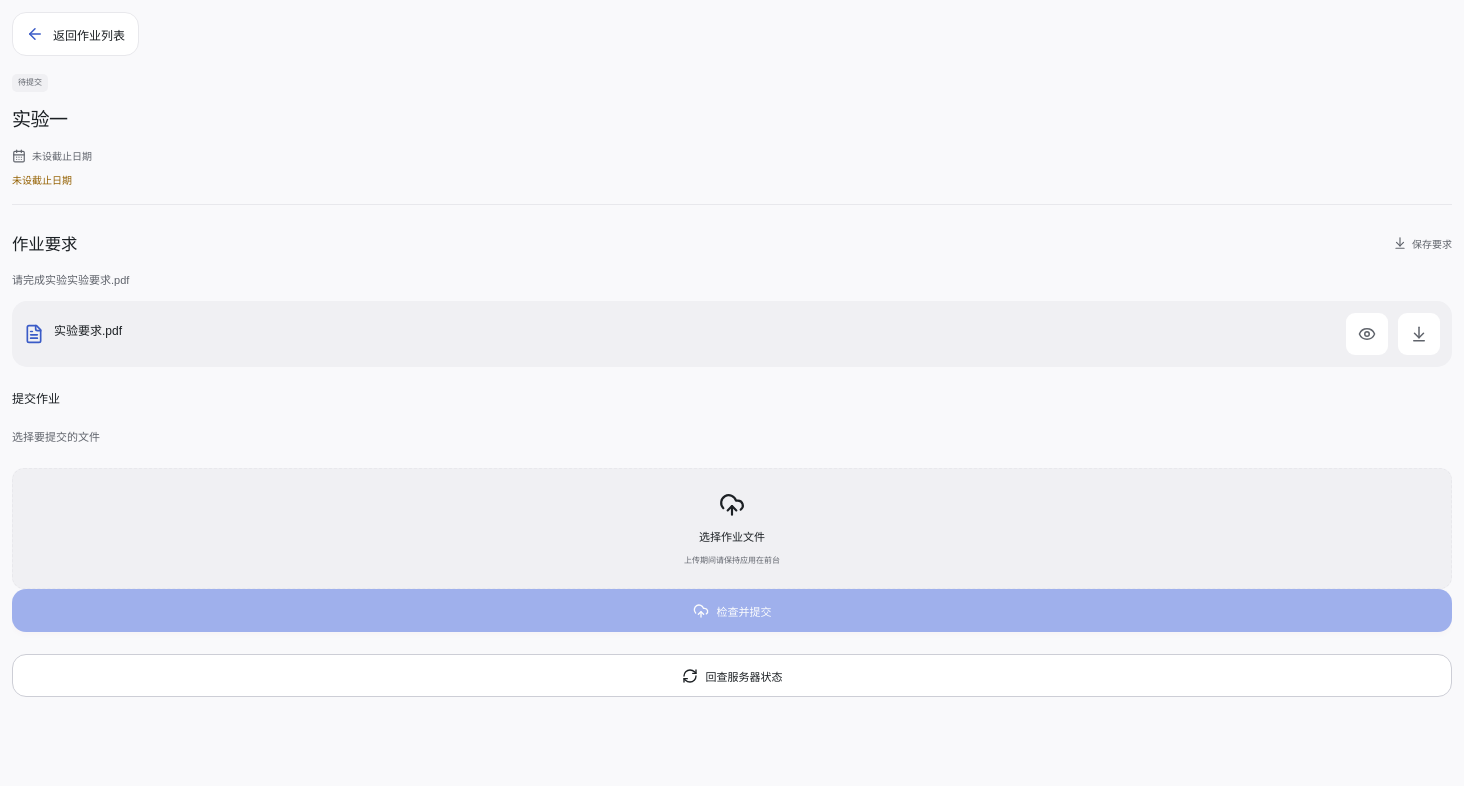
assignment file channels › requires explicit confirmation and then exposes the receipt attachment for preview and download
The image size is (1464, 786).
expect the text "实验要求.pdf" is shown: met, box [54,324,122,338]
Click the button "选择作业文件 上传期间请保持应用在前台": {"x": 732, "y": 529} [12,468,1452,589]
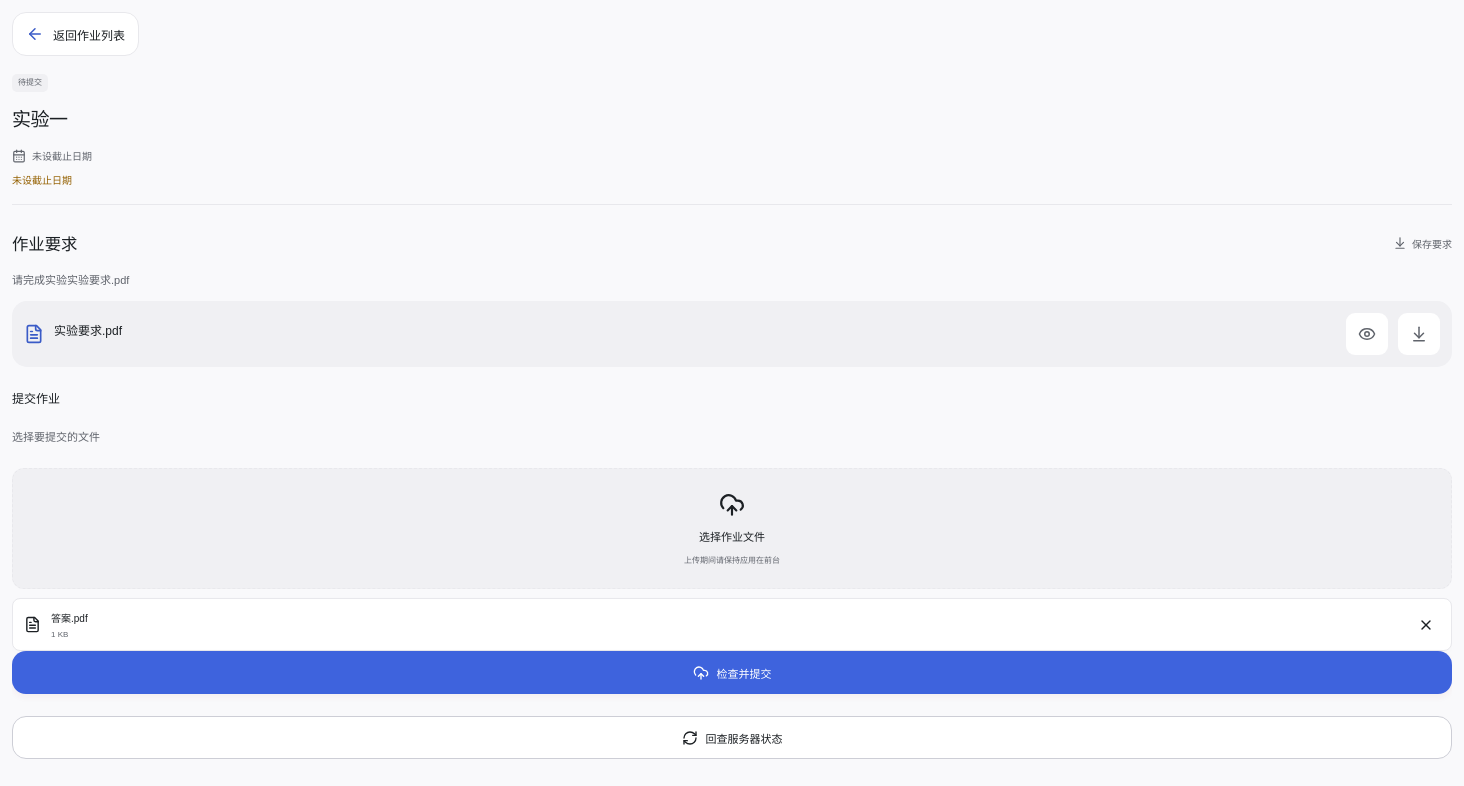
expect the text "答案.pdf" is shown: met, box [51,613,88,624]
Click the button "检查并提交": {"x": 732, "y": 673} [12,651,1452,694]
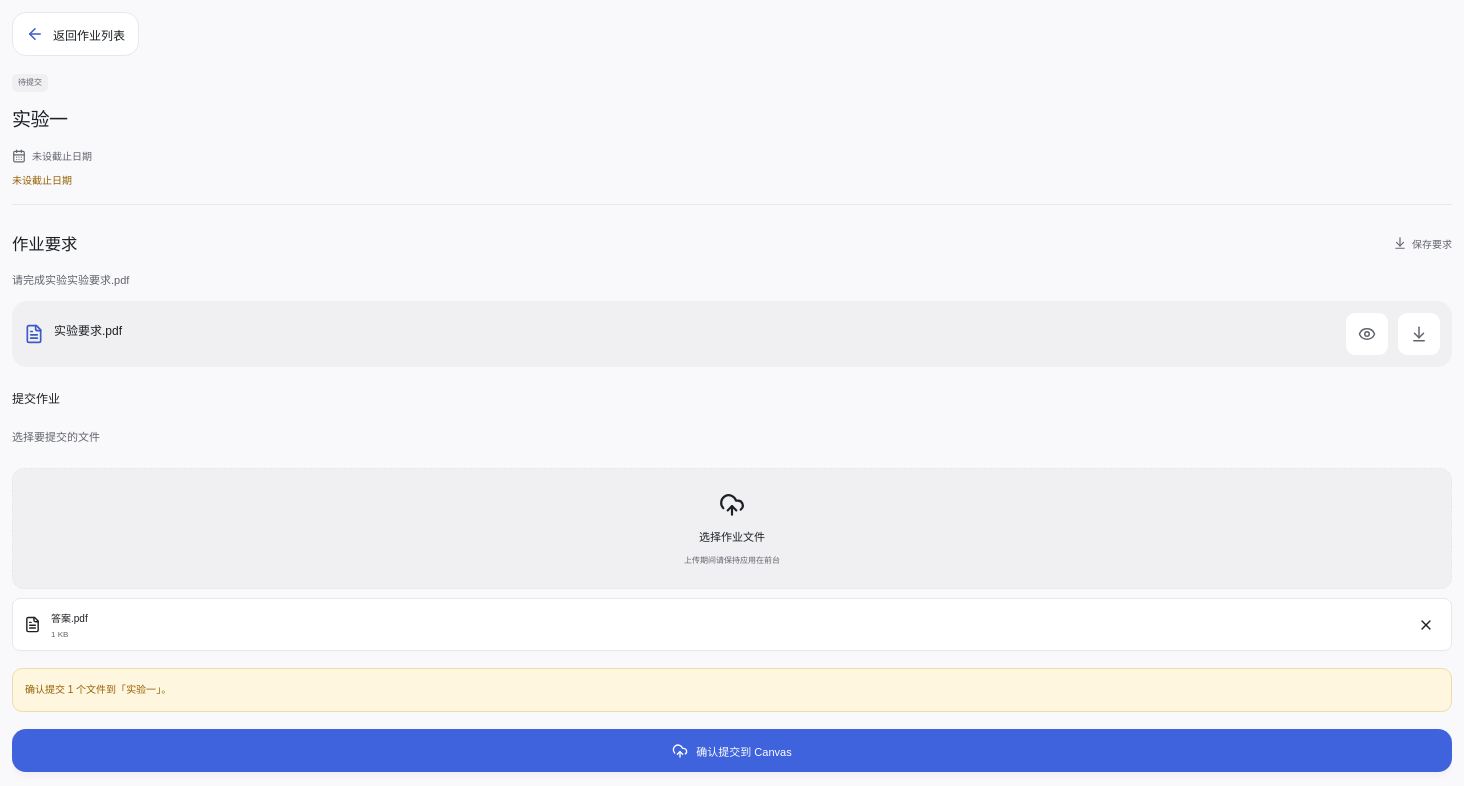
Click the button "确认提交到 Canvas": {"x": 732, "y": 751} [12,729,1452,772]
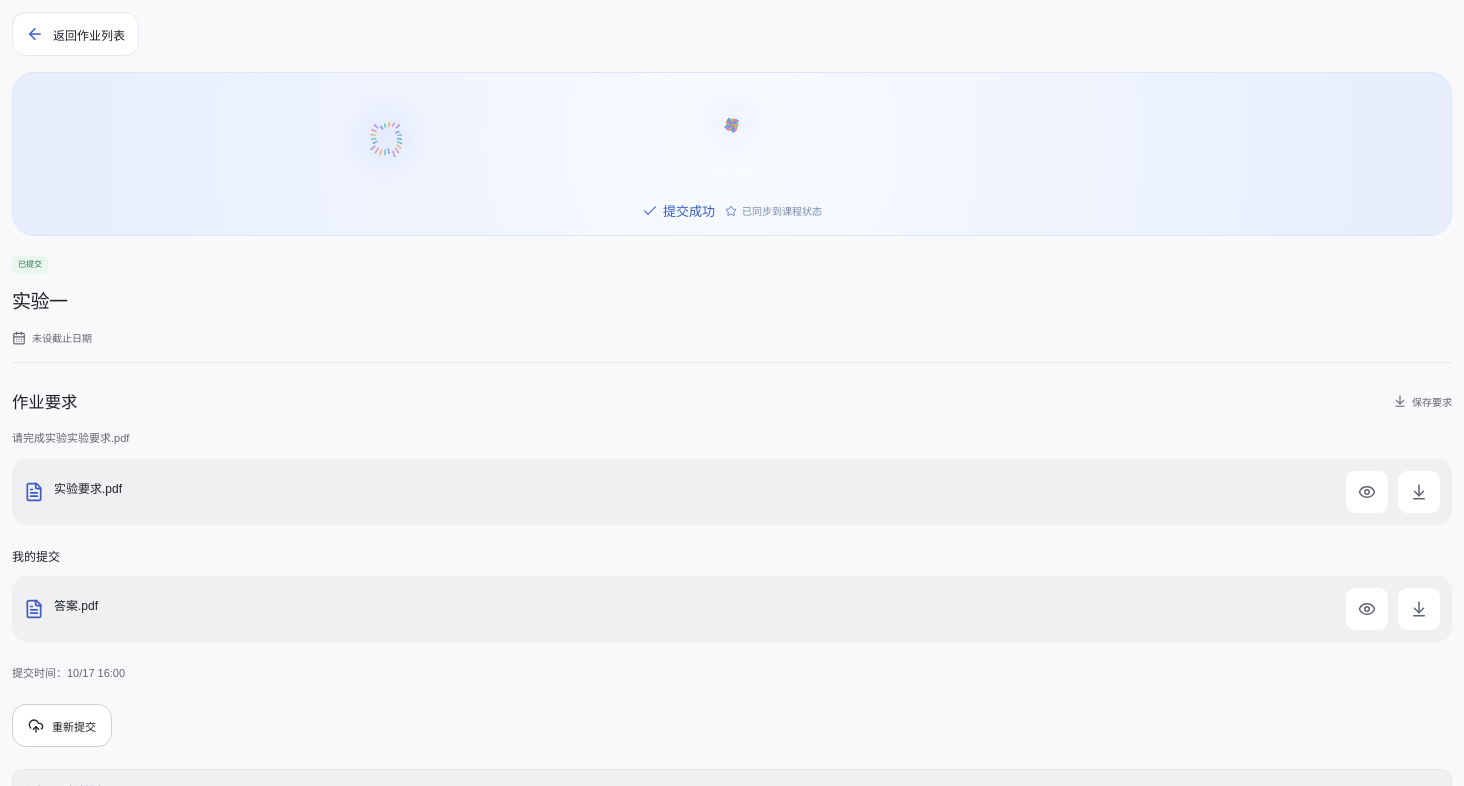
expect the button named "下载 答案.pdf" is shown: met, box [1398,588,1440,630]
expect the text "提交成功" is shown: met, box [642,201,715,220]
